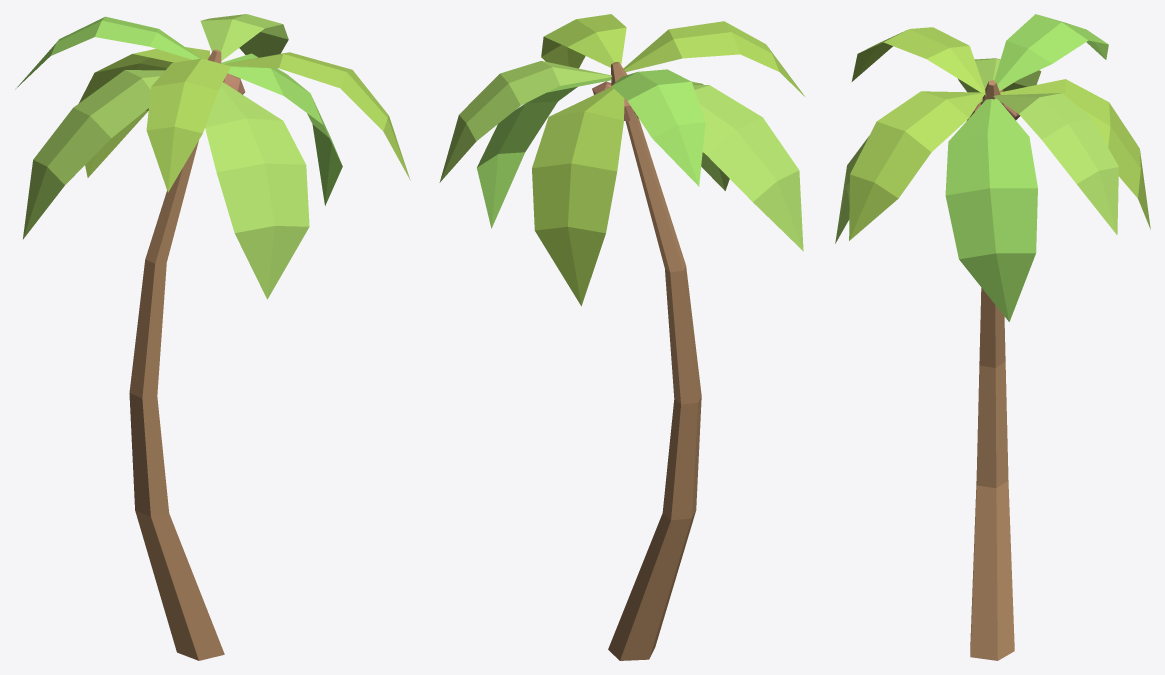
The model's file is Prop_Tree_Palm_3.glb.
3 views of the same model, side by side, from view 1: azimuth 30°, elevation 25°; view 2: azimuth 150°, elevation 25°; view 3: azimuth 270°, elevation 25° (orthographic). The views are drawn at different scales.
Visible parts, largest first — view 1: Palm_Tree_Coconut_m_03; view 2: Palm_Tree_Coconut_m_03; view 3: Palm_Tree_Coconut_m_03.
Part boxes in pixels (x1,y1,x2,y2): Palm_Tree_Coconut_m_03: [15, 14, 410, 660]; Palm_Tree_Coconut_m_03: [439, 14, 804, 660]; Palm_Tree_Coconut_m_03: [835, 14, 1150, 660].
Bounding box in the file's own units: 1.79 × 3.35 × 1.6.
1 material, 1 textured.
